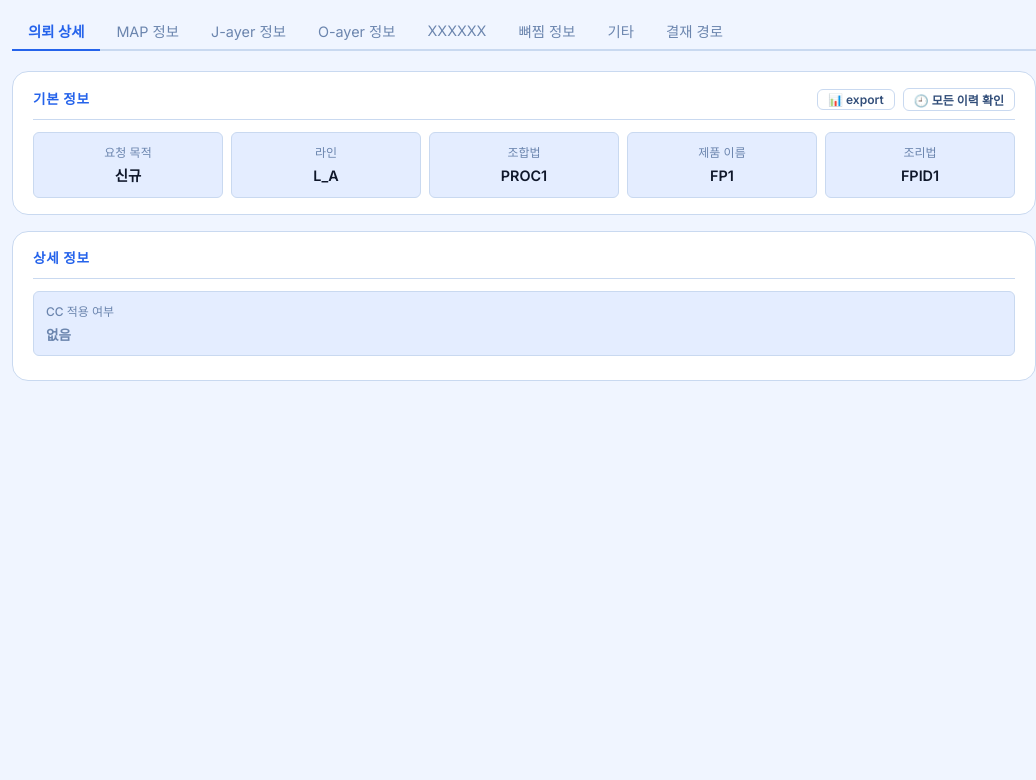
모든 이력 확인 — 버튼 › 이력이 없는 문서는 비교할 회차가 없다는 안내만 보인다
Click the button "🕘 모든 이력 확인".
click(959, 100)  # box [903,88,1015,111]
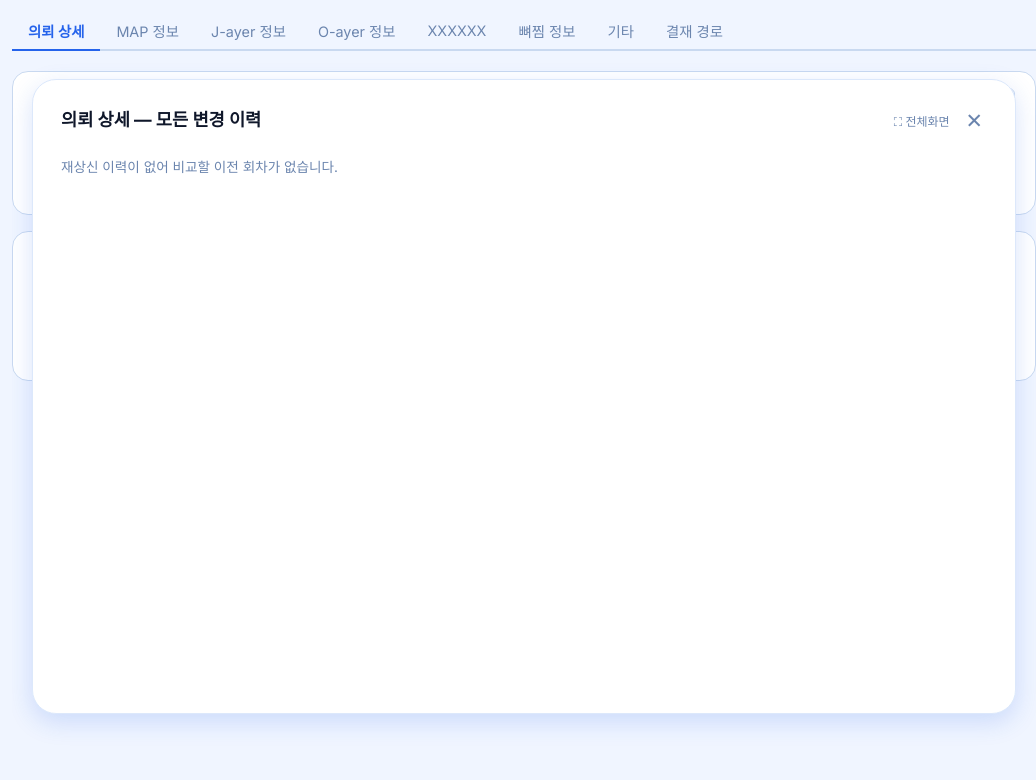
Expected: the text "— 모든 변경 이력" shows "재상신 이력이 없어 비교할 이전 회차가 없습니다.", [61,158,338,174]
